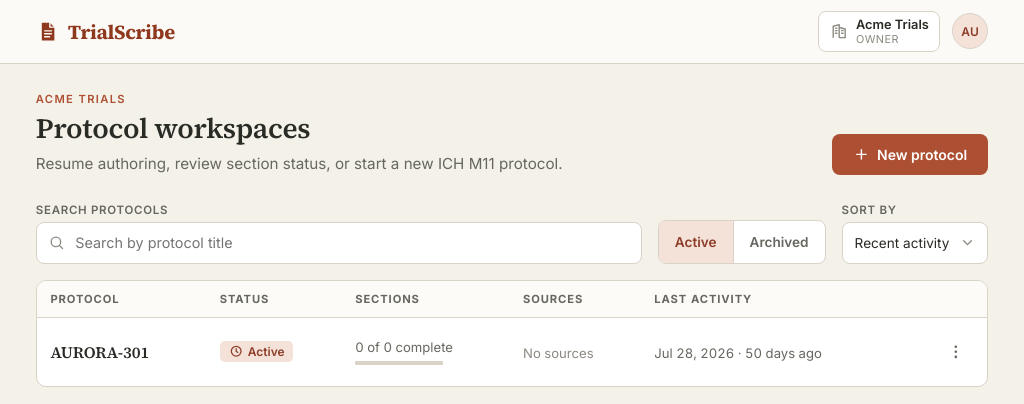
Test case: ProtocolLibraryPage › shows a search message when nothing matches
Expected: the link "AURORA-301" is shown, [50,341,149,363]
Type "zzz" into the search field labelled "Search protocols" at (339,243), box [36,222,642,264]
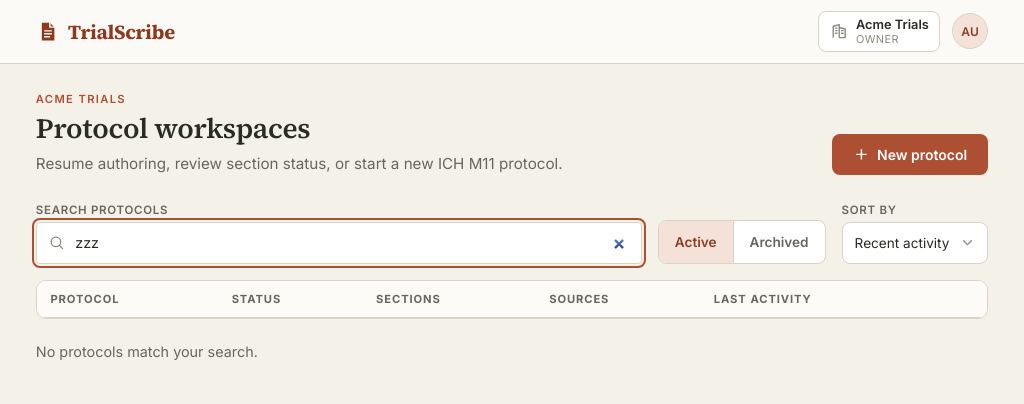
Now the text "No protocols match your search." is shown, box [36,343,258,360]
